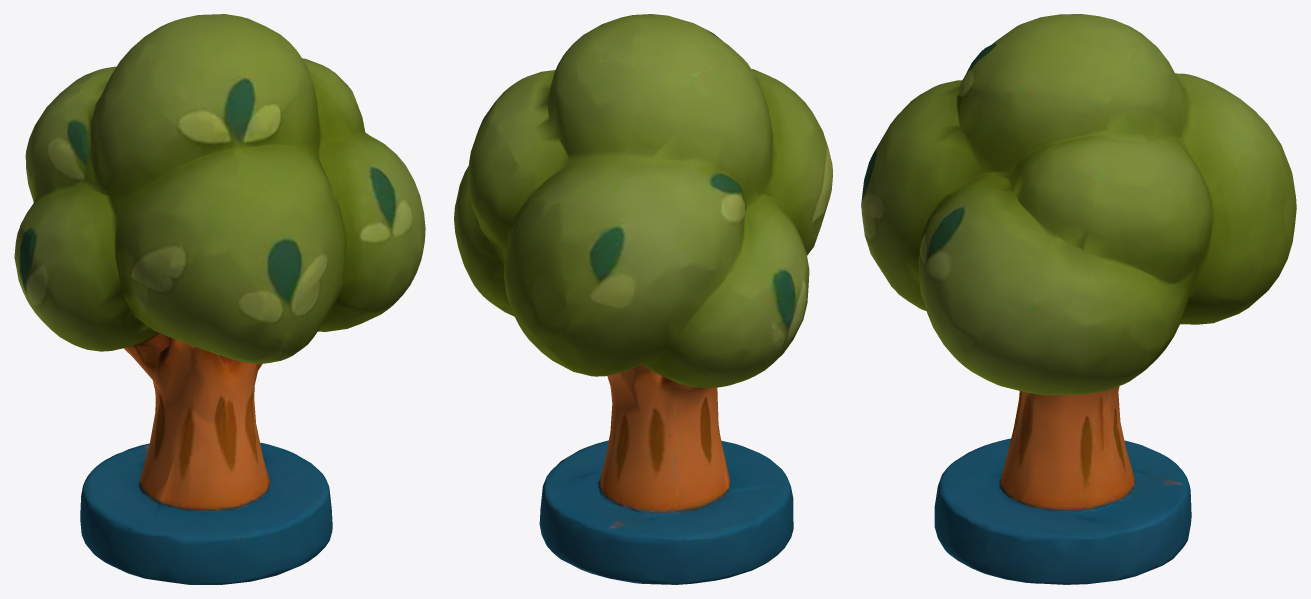
The model's file is tree-round.glb.
3 renders of one model, left to right at view 1: azimuth 30°, elevation 25°; view 2: azimuth 150°, elevation 25°; view 3: azimuth 270°, elevation 25°, orthographic. The views are drawn at different scales.
Parts seen in each view (by area): view 1: textured_mesh.obj; view 2: textured_mesh.obj; view 3: textured_mesh.obj.
Boxes of the visible parts, x1=… form: textured_mesh.obj: x1=14, y1=14, x2=425, y2=584; textured_mesh.obj: x1=454, y1=14, x2=832, y2=584; textured_mesh.obj: x1=861, y1=14, x2=1296, y2=584.
Bounding box in the file's own units: 0.7276 × 0.9985 × 0.7664.
Materials: 1 (1 with a texture image).
